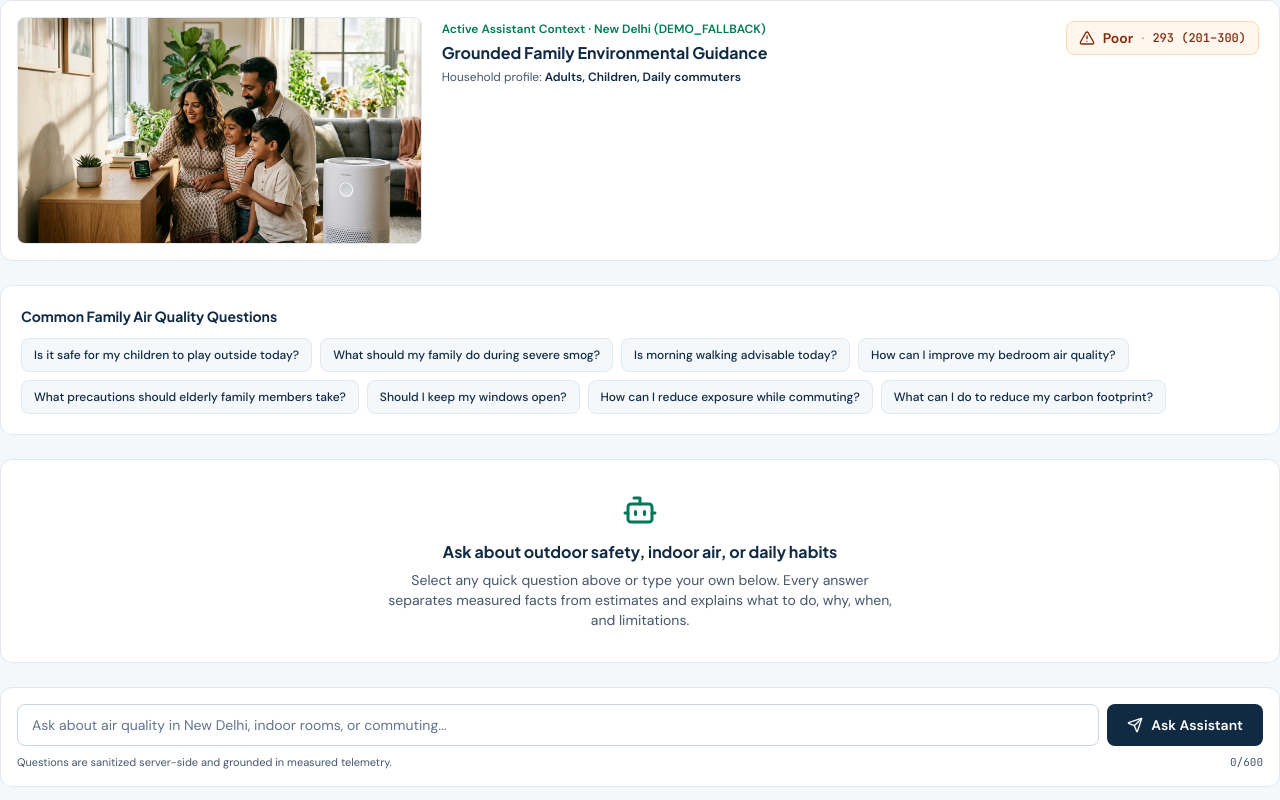
it: AssistantPage validates short queries, submits mocked guidance, and clears exchanges
Replace the text in the field named "Ask an air quality or family protection question" with "hi" at (558, 725), box [17,704,1099,746]
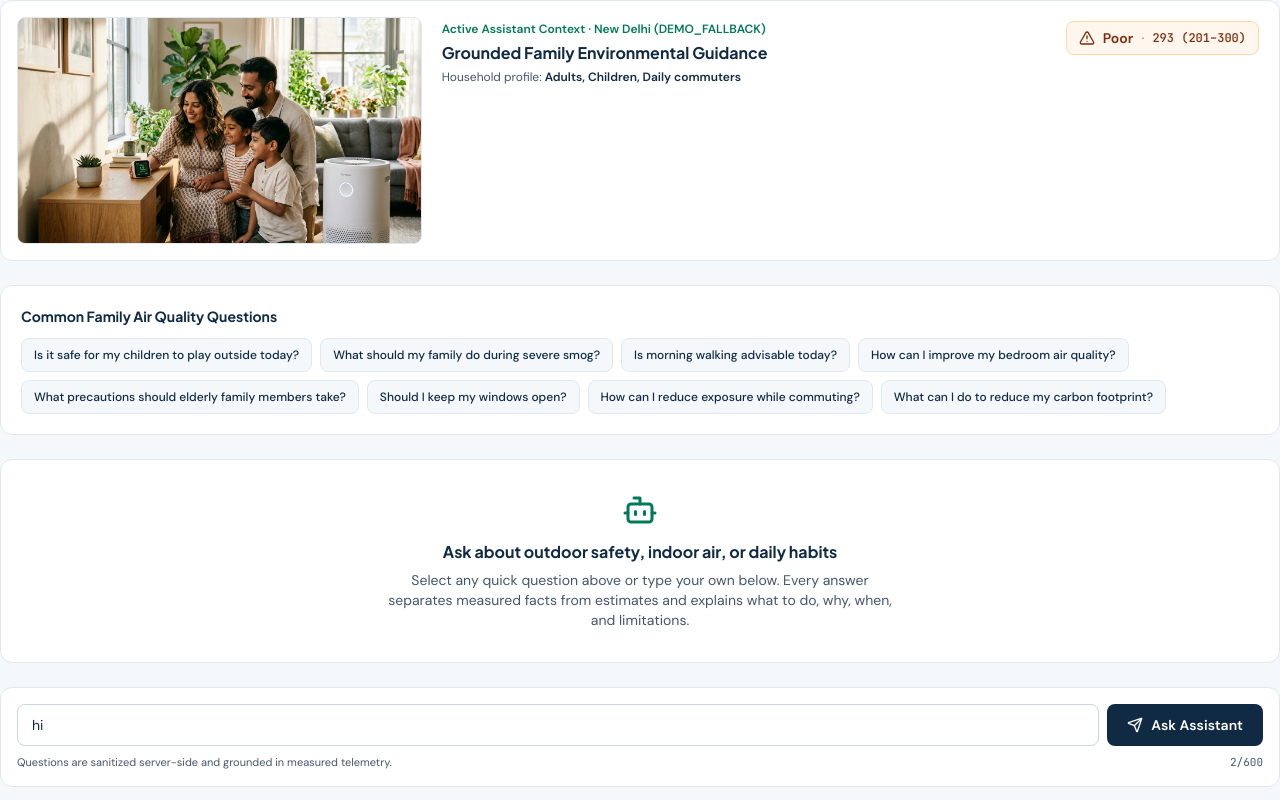
Submit the form named "Ask an air quality or family protection question", box [0,687,1279,787]
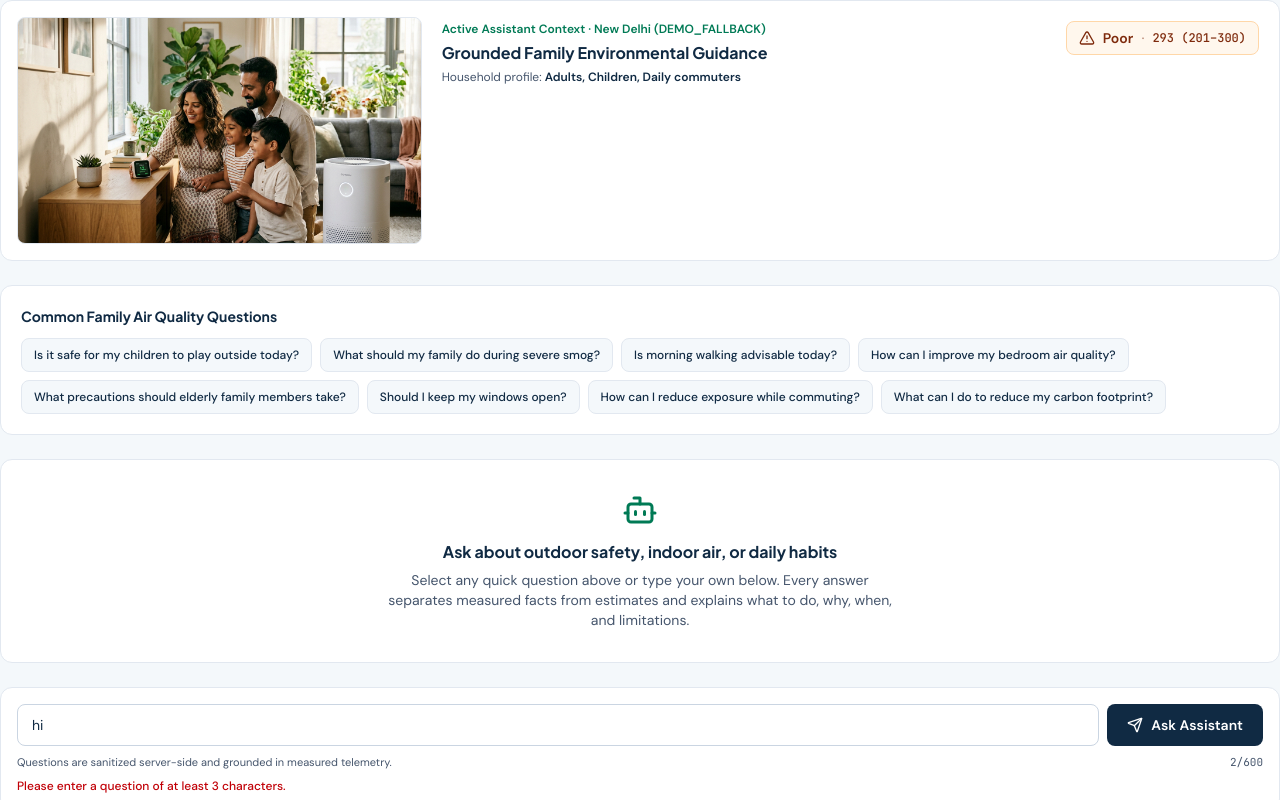
Now the text "Please enter a question of at least 3 characters." is shown, box [17,778,286,794]
Click the button "Is it safe for my children to play outside today?" at (167, 355), box [21,338,312,372]
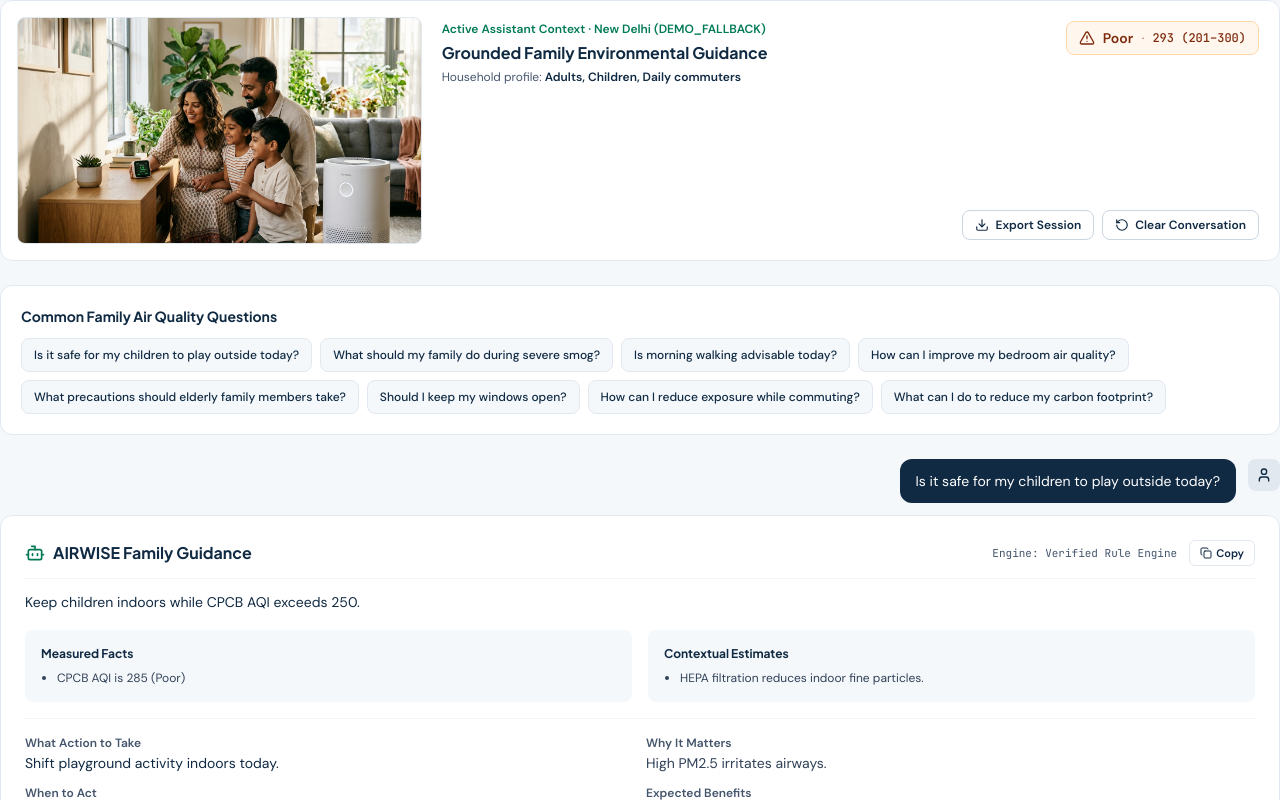
Now the text "Keep children indoors while CPCB AQI exceeds 250." is shown, box [25,593,360,611]
Click the button "Clear Conversation" at (1181, 225), box [1102,210,1259,240]
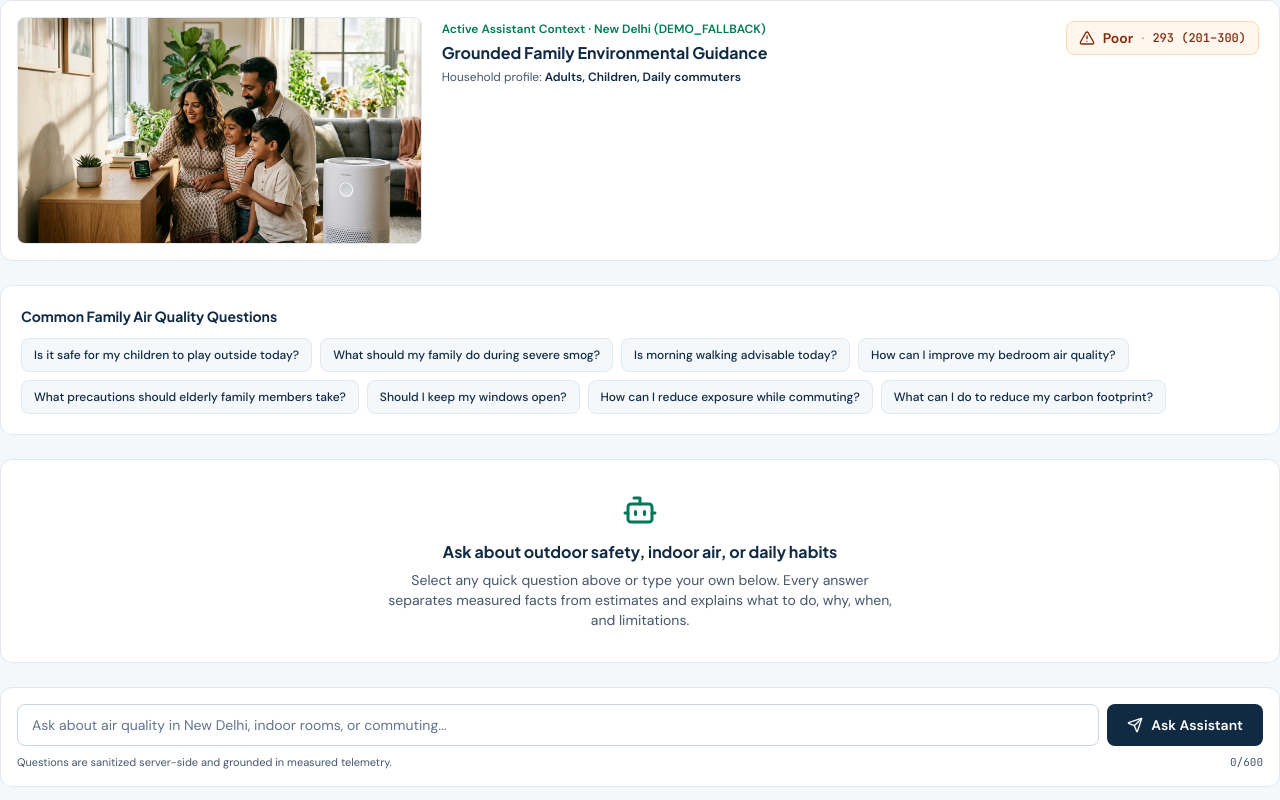
Now the text "Keep children indoors while CPCB AQI exceeds 250" is gone
